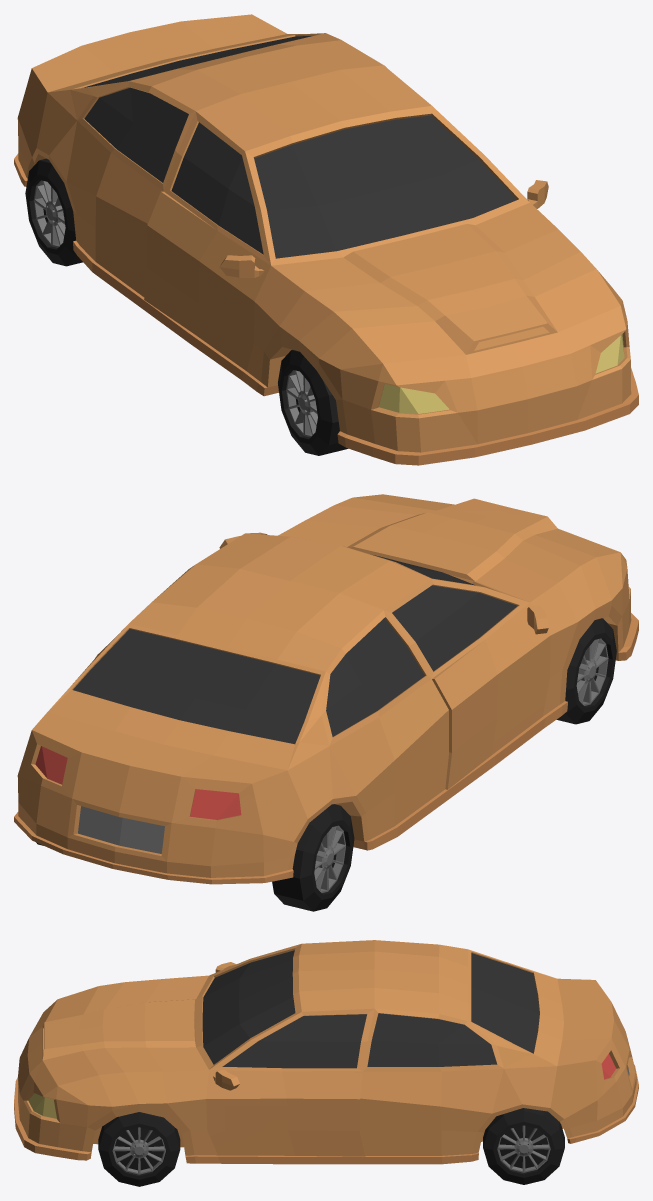
File: SportsCar.glb
3 renders of one model, top to bottom at view 1: azimuth 30°, elevation 25°; view 2: azimuth 150°, elevation 25°; view 3: azimuth 270°, elevation 25°, orthographic. The views are drawn at different scales.
Parts seen in each view (by area): view 1: SportsCar.obj; view 2: SportsCar.obj; view 3: SportsCar.obj.
Part boxes in pixels (x1=…): SportsCar.obj: x1=14, y1=14, x2=638, y2=465; SportsCar.obj: x1=14, y1=494, x2=638, y2=911; SportsCar.obj: x1=14, y1=940, x2=638, y2=1186.
Size of the model in its own units: 1.8 by 1.16 by 3.97.
